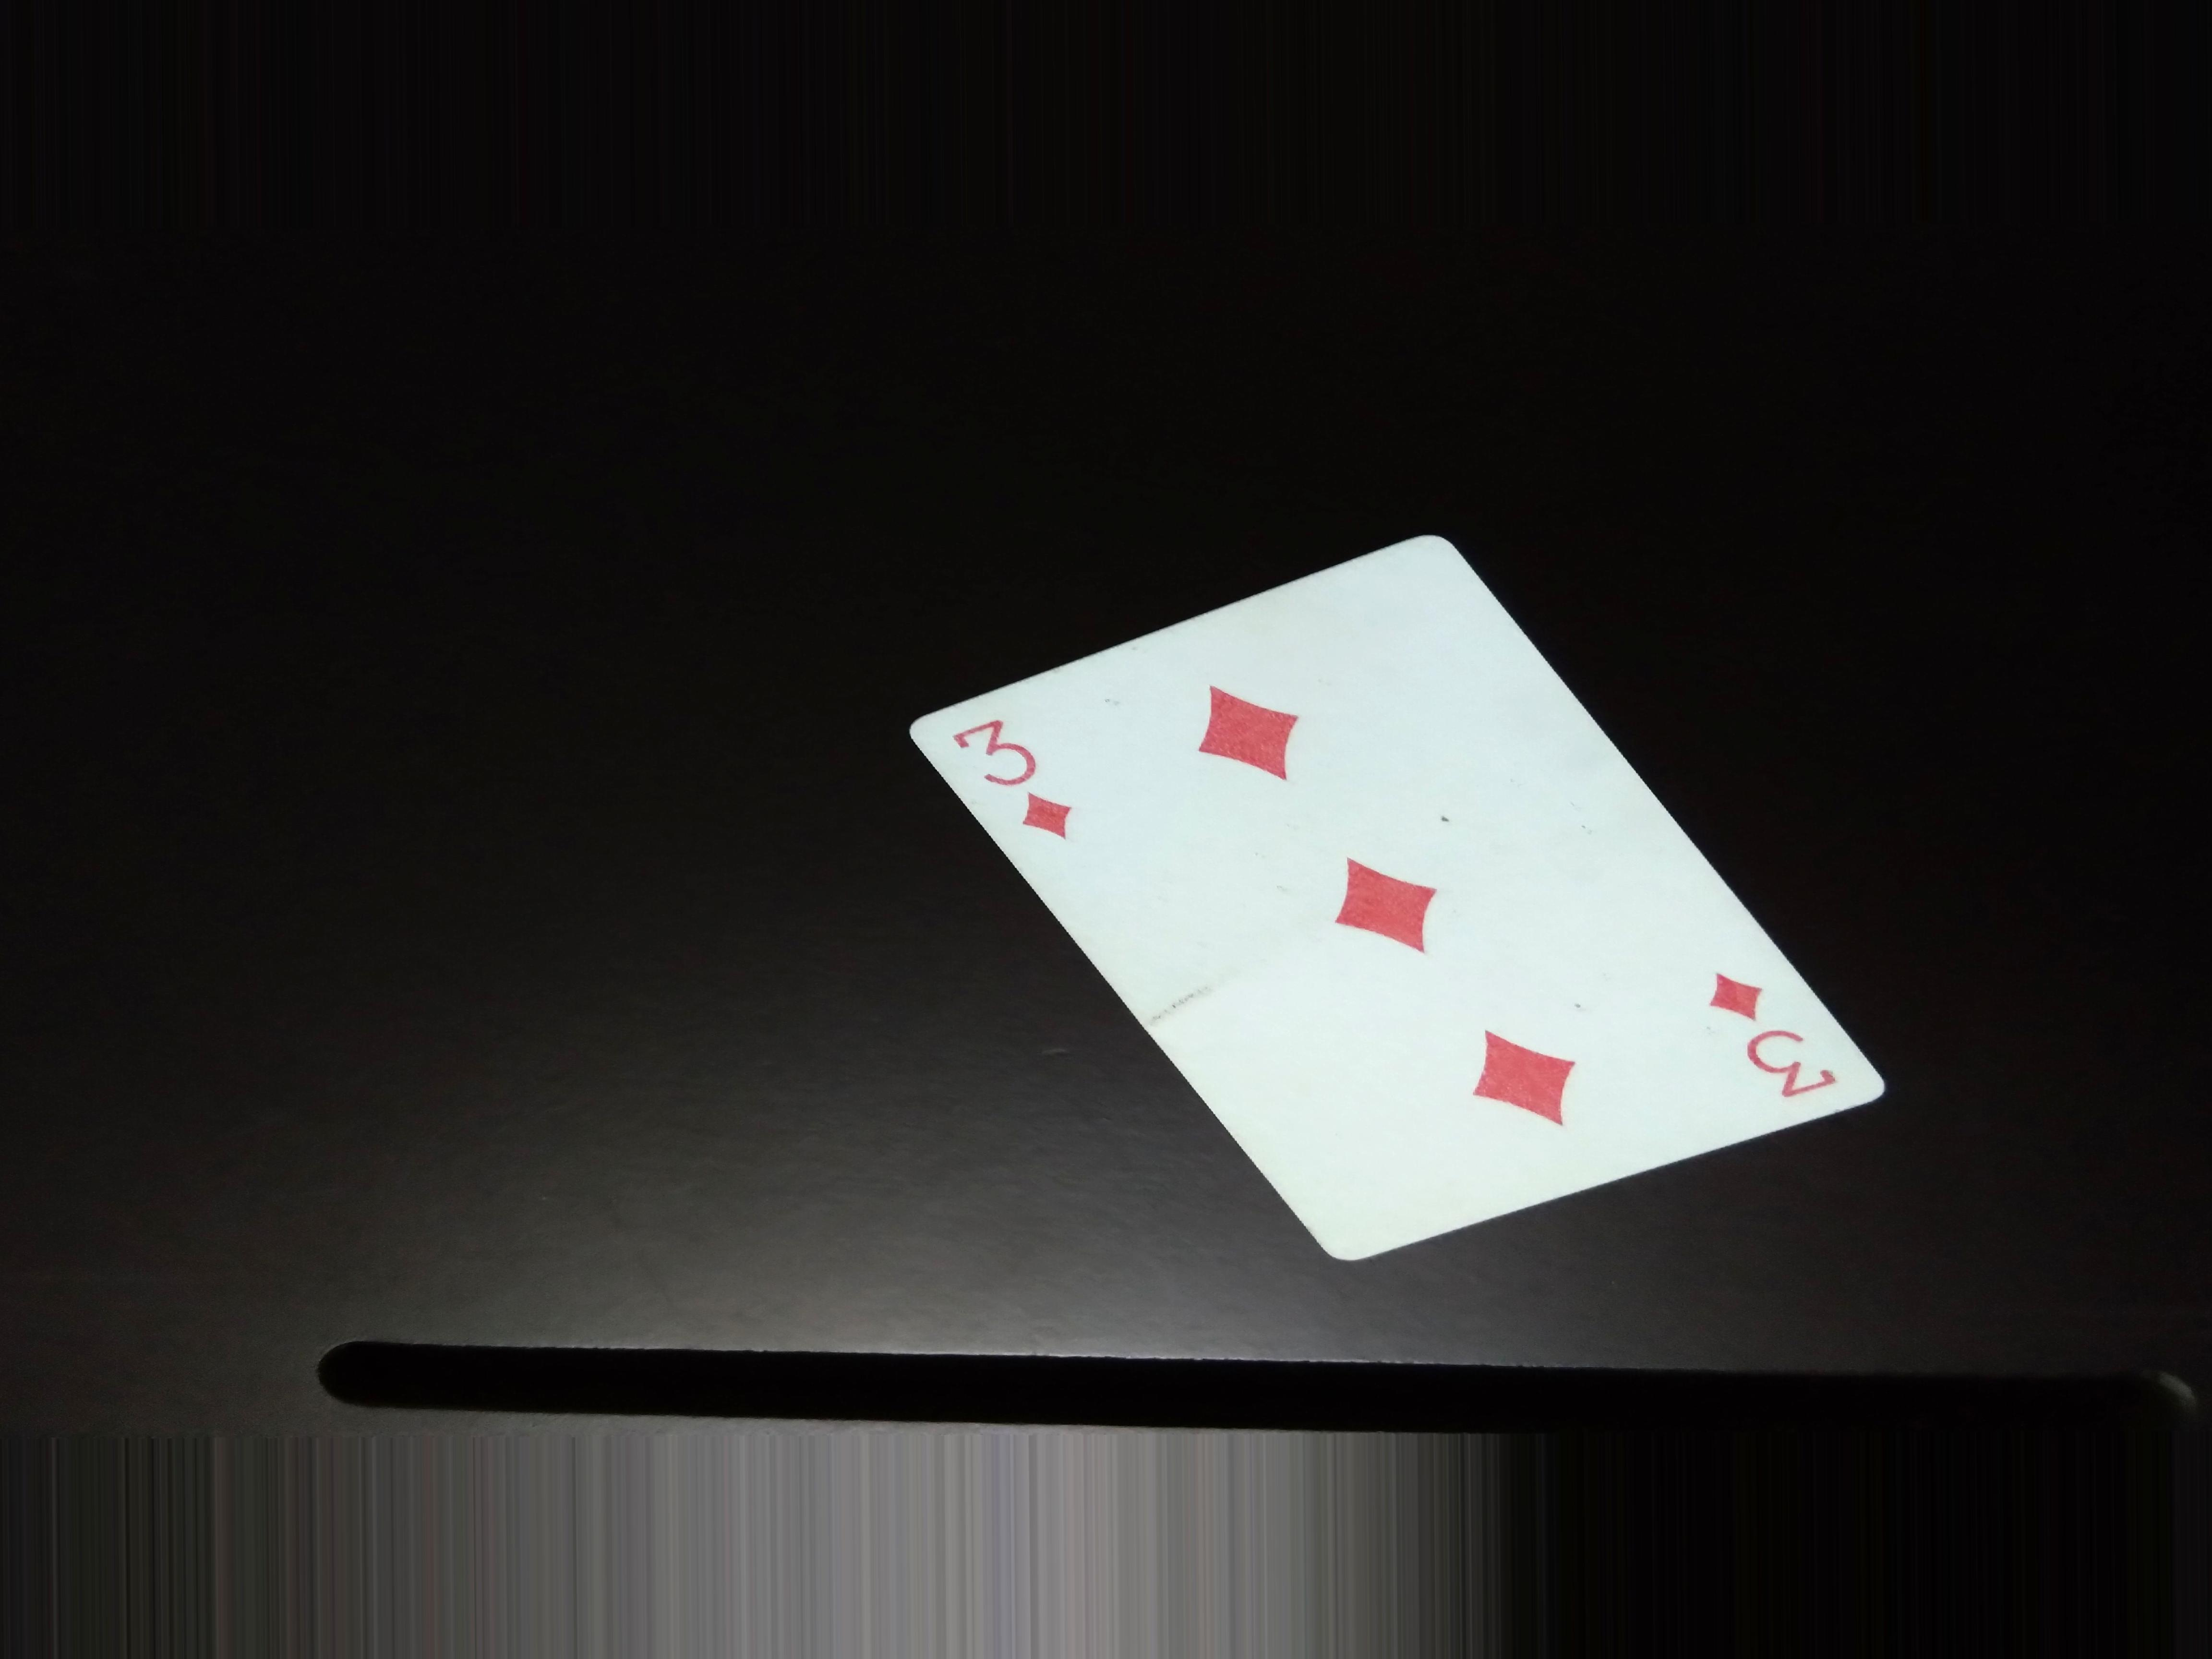3D: (1693, 955, 1869, 1119)
